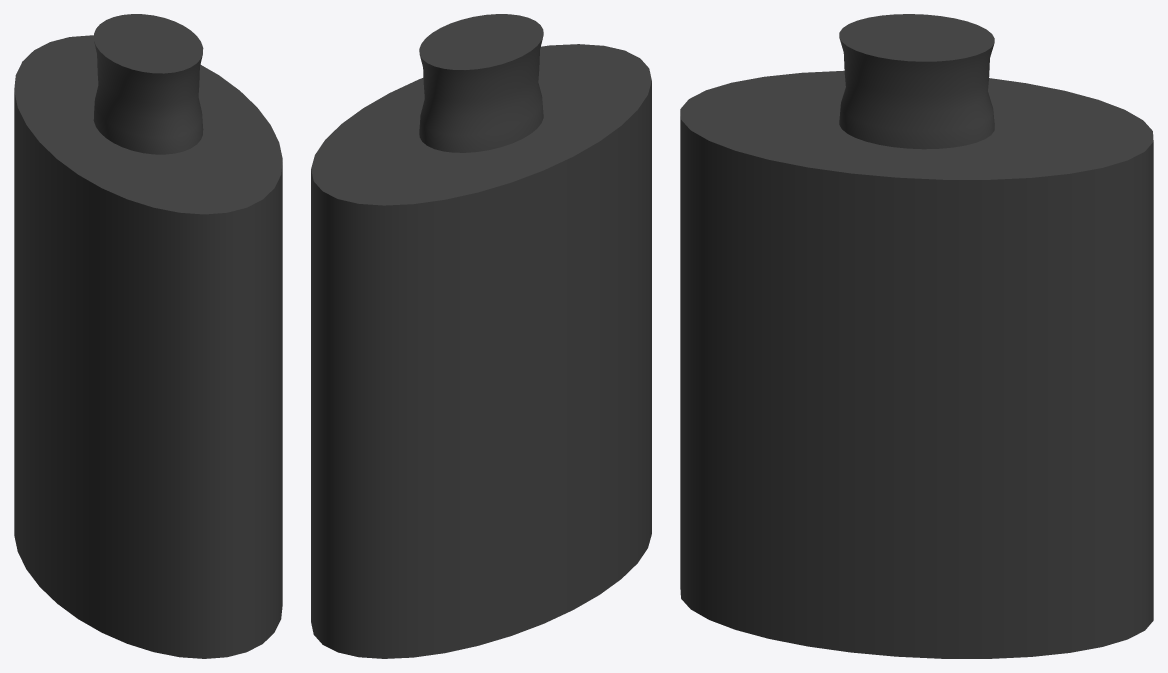
File: flask.fbx
3 views of the same model, side by side, from view 1: azimuth 30°, elevation 25°; view 2: azimuth 150°, elevation 25°; view 3: azimuth 270°, elevation 25° (orthographic). The views are drawn at different scales.
Visible parts, largest first — view 1: Flask; view 2: Flask; view 3: Flask.
Part boxes in pixels (<box>): Flask: <box>14,14,282,658</box>; Flask: <box>311,14,651,658</box>; Flask: <box>680,14,1153,658</box>.
Size of the model in its own units: 16.11 by 38.98 by 29.51.
